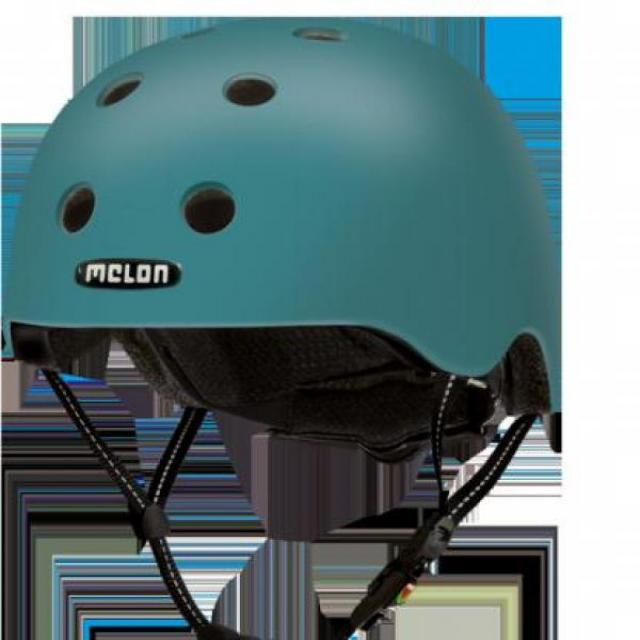Helmet: (17, 22, 558, 637)
